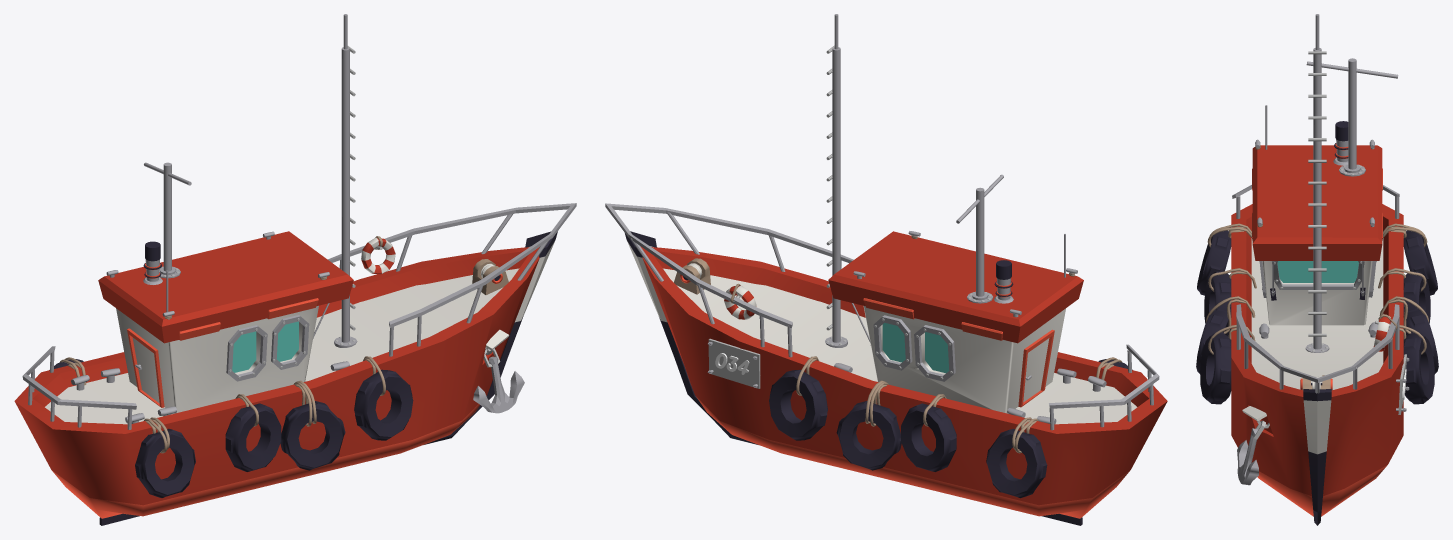
The model's file is ship.fbx.
The picture shows the model from 3 angles, left to right: view 1: azimuth 30°, elevation 25°; view 2: azimuth 150°, elevation 25°; view 3: azimuth 270°, elevation 25°; orthographic projection. The views are drawn at different scales.
Visible parts, largest first — view 1: polySurface19.001; view 2: polySurface19.001; view 3: polySurface19.001.
Part boxes in pixels (x1,y1,x2,y2): polySurface19.001: (14, 14, 576, 525); polySurface19.001: (605, 14, 1167, 525); polySurface19.001: (1196, 14, 1438, 525).
Size of the model in its own units: 93.29 by 73.98 by 35.4.
